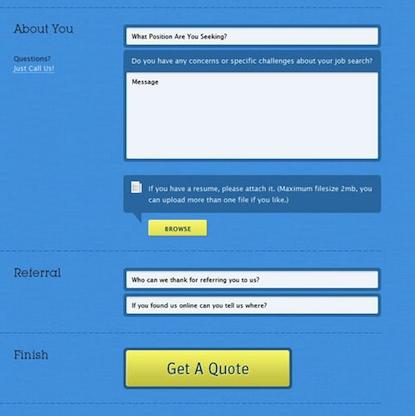button: (122, 348, 293, 389), (147, 219, 208, 239)
field: (123, 50, 381, 162), (123, 267, 382, 292), (123, 293, 382, 318), (123, 24, 380, 49)
